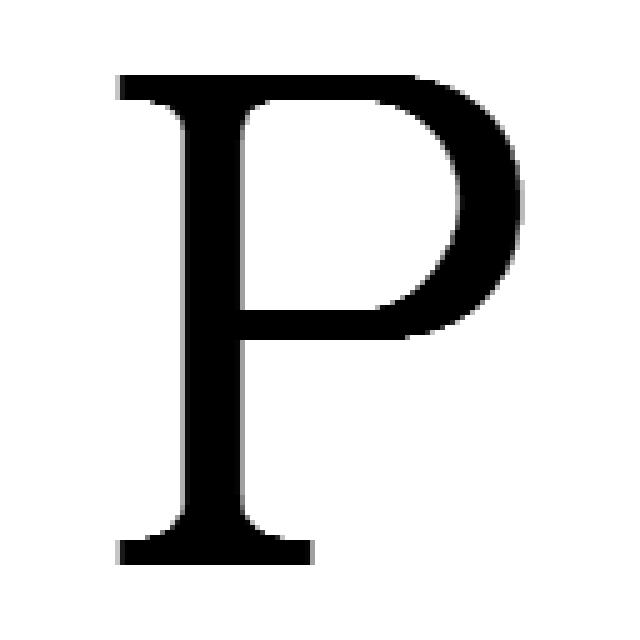P: (115, 75, 525, 570)
